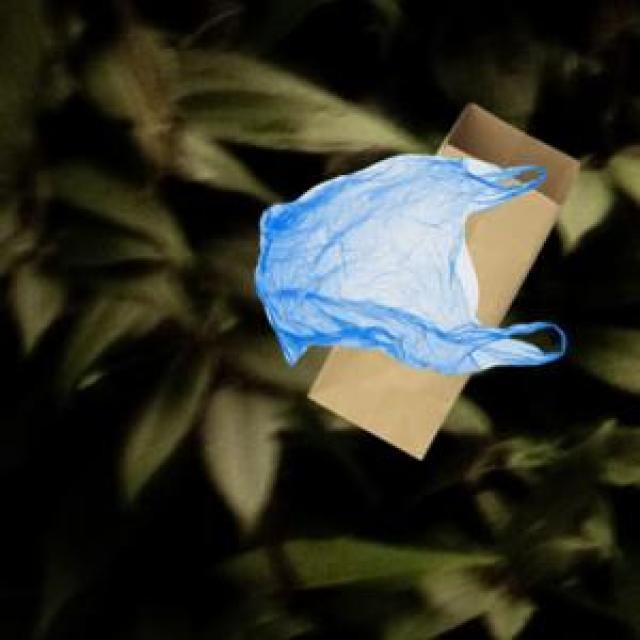paper: (305, 100, 574, 454)
